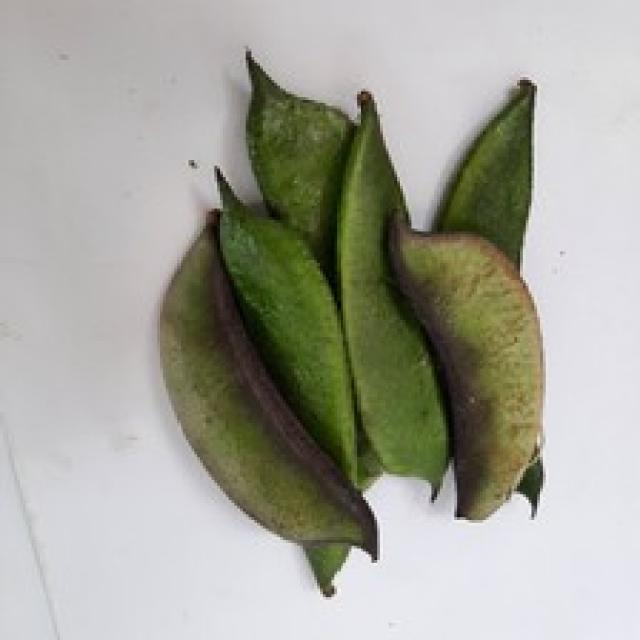Bean: (154, 46, 546, 594), (157, 209, 380, 594), (383, 209, 543, 520), (334, 86, 452, 500), (243, 46, 354, 277)
